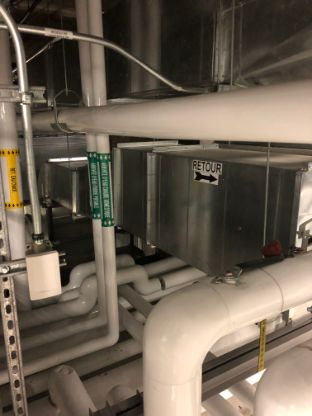Duct: (17, 135, 312, 281)
